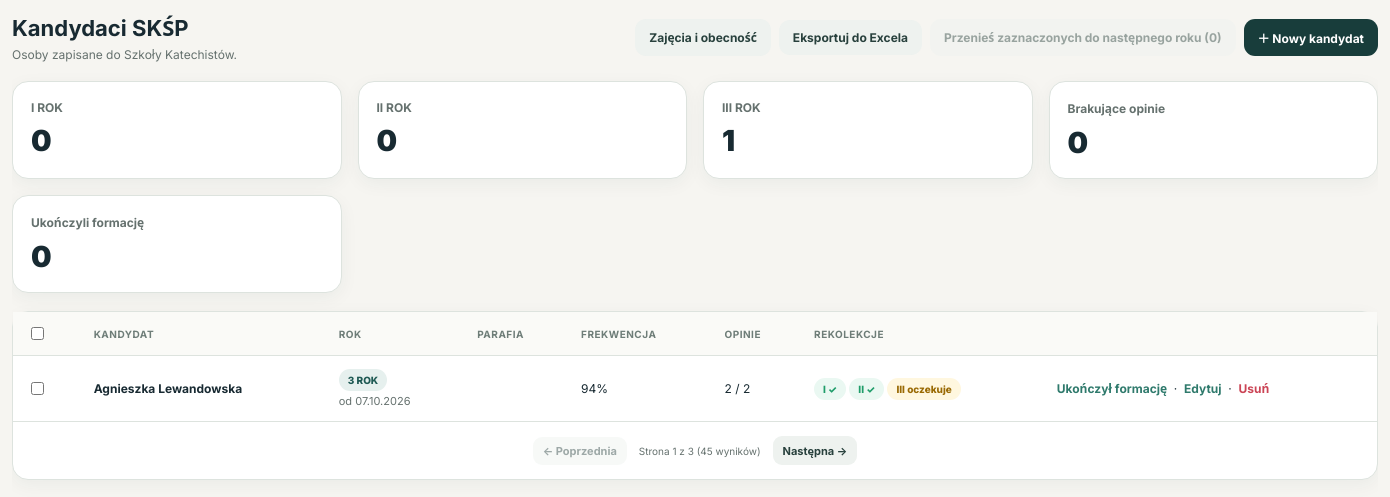
Test case: CandidatesListComponent › loads the next page with the pagination
Click the button "Następna →" at (815,450), box [772,436,857,465]
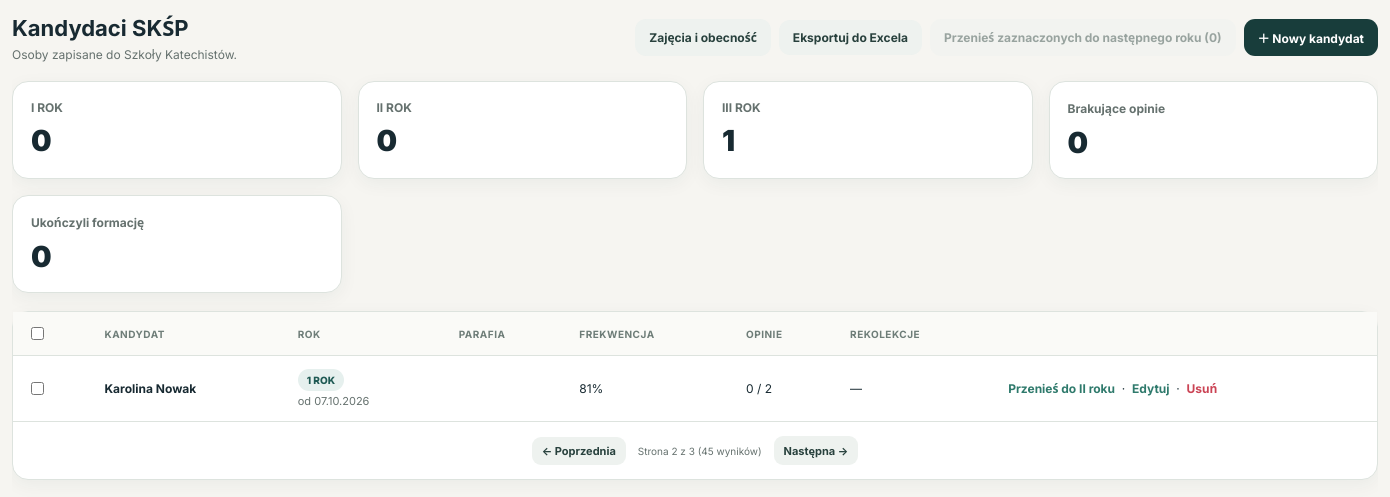
Now the text "Karolina Nowak" is shown, box [104,381,196,396]
